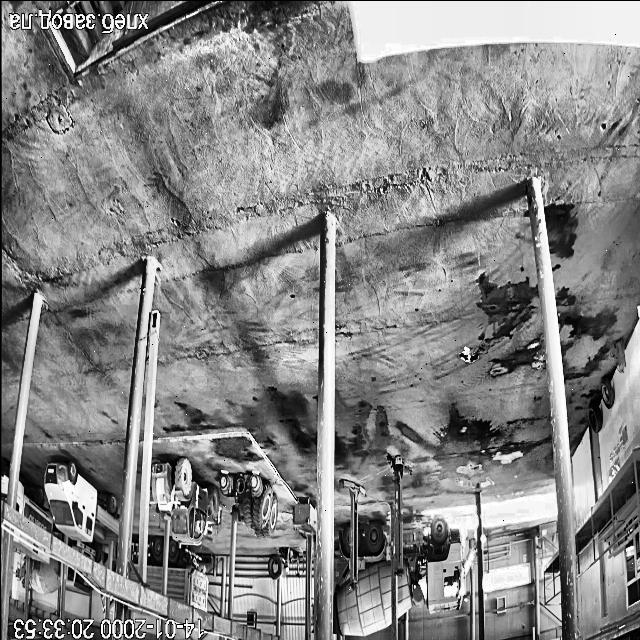class6: (151, 458, 221, 544), (220, 474, 278, 537)
class7: (396, 516, 475, 616), (334, 523, 392, 636), (44, 460, 119, 541), (167, 540, 208, 612), (16, 482, 52, 532), (30, 560, 60, 594), (146, 539, 163, 592), (12, 538, 48, 562), (69, 543, 104, 563), (66, 567, 91, 594), (130, 543, 140, 580), (0, 460, 8, 500), (18, 564, 24, 587)
truck: (340, 479, 365, 588), (388, 455, 410, 574)
